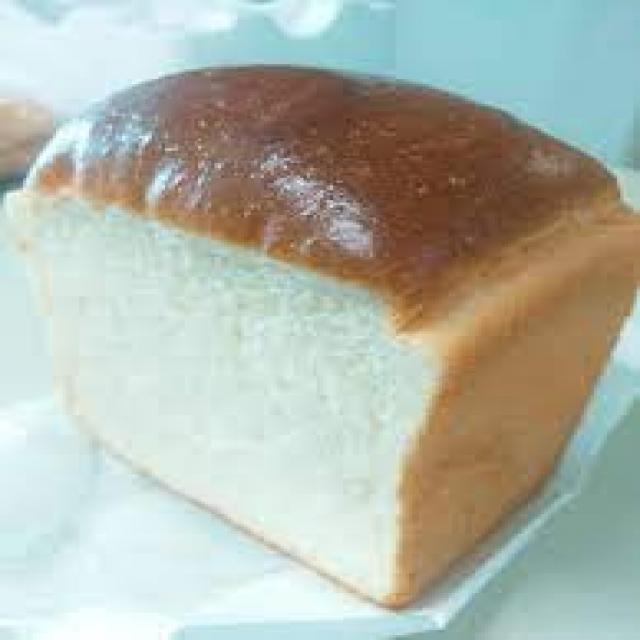bread: (20, 64, 640, 608)
